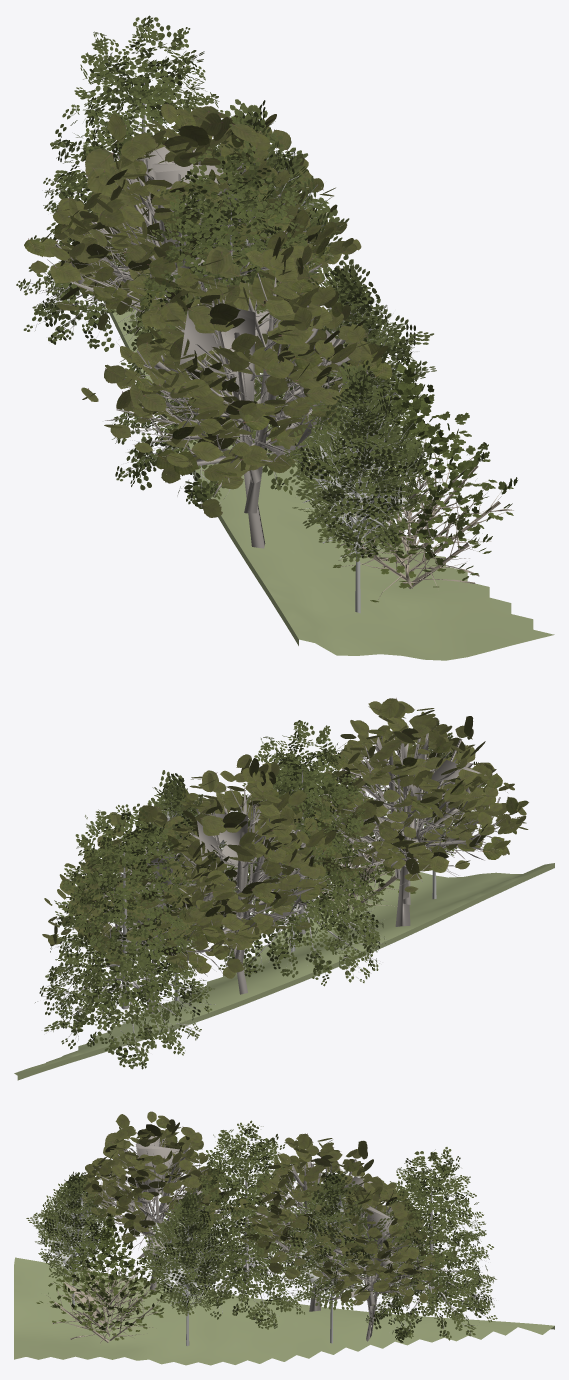
3 renders of one model, top to bottom at view 1: azimuth 30°, elevation 25°; view 2: azimuth 150°, elevation 25°; view 3: azimuth 270°, elevation 25°, orthographic. The views are drawn at different scales.
Parts seen in each view (by area): view 1: SW_V_trees_Tree_024_UNVERIFIEDspecies, SW_V_trees_Tree_014_UNVERIFIEDspecies, SW_ground_village_lawn_-3_4, SW_V_trees_Tree_029_UNVERIFIEDspecies, SW_V_trees_Tree_076_UNVERIFIEDspecies; view 2: SW_V_trees_Tree_024_UNVERIFIEDspecies, SW_V_trees_Tree_014_UNVERIFIEDspecies, SW_ground_village_lawn_-3_4, SW_V_trees_Tree_029_UNVERIFIEDspecies, SW_V_trees_Tree_076_UNVERIFIEDspecies; view 3: SW_V_trees_Tree_024_UNVERIFIEDspecies, SW_ground_village_lawn_-3_4, SW_V_trees_Tree_014_UNVERIFIEDspecies, SW_V_trees_Tree_029_UNVERIFIEDspecies, SW_V_trees_Tree_076_UNVERIFIEDspecies.
Boxes of the visible parts, left/top/right/bottom form: SW_V_trees_Tree_024_UNVERIFIEDspecies: left=24, top=103, right=392, bottom=548; SW_V_trees_Tree_014_UNVERIFIEDspecies: left=16, top=15, right=325, bottom=508; SW_ground_village_lawn_-3_4: left=103, top=300, right=554, bottom=660; SW_V_trees_Tree_029_UNVERIFIEDspecies: left=182, top=99, right=436, bottom=613; SW_V_trees_Tree_076_UNVERIFIEDspecies: left=305, top=357, right=518, bottom=602; SW_V_trees_Tree_024_UNVERIFIEDspecies: left=42, top=698, right=528, bottom=1013; SW_V_trees_Tree_014_UNVERIFIEDspecies: left=35, top=720, right=387, bottom=1069; SW_ground_village_lawn_-3_4: left=14, top=863, right=554, bottom=1080; SW_V_trees_Tree_029_UNVERIFIEDspecies: left=120, top=721, right=486, bottom=1000; SW_V_trees_Tree_076_UNVERIFIEDspecies: left=317, top=766, right=415, bottom=924; SW_V_trees_Tree_024_UNVERIFIEDspecies: left=78, top=1111, right=457, bottom=1341; SW_ground_village_lawn_-3_4: left=14, top=1257, right=554, bottom=1365; SW_V_trees_Tree_014_UNVERIFIEDspecies: left=186, top=1120, right=497, bottom=1342; SW_V_trees_Tree_029_UNVERIFIEDspecies: left=26, top=1169, right=389, bottom=1346; SW_V_trees_Tree_076_UNVERIFIEDspecies: left=36, top=1213, right=165, bottom=1344.
Bounding box in the file's own units: 39.9 × 32.75 × 76.23.
9 materials, 4 textured.
